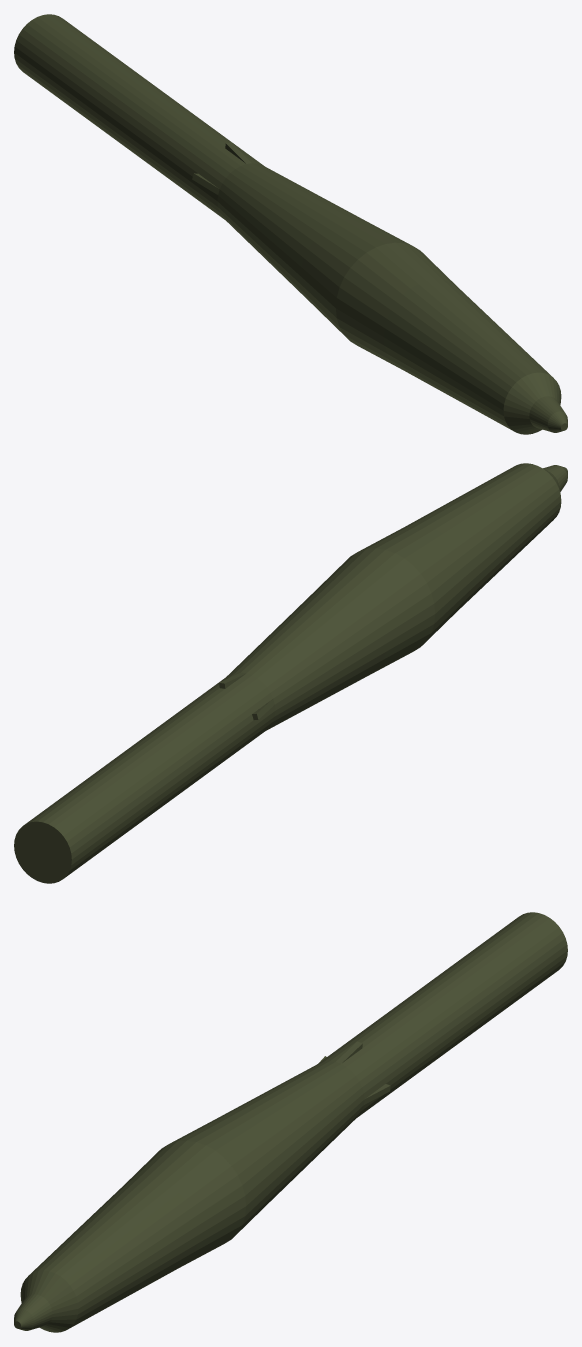
File: rpg_only.fbx
The picture shows the model from 3 angles, top to bottom: view 1: azimuth 30°, elevation 25°; view 2: azimuth 150°, elevation 25°; view 3: azimuth 330°, elevation 25°; orthographic projection.
Parts seen in each view (by area): view 1: rpg; view 2: rpg; view 3: rpg.
Boxes of the visible parts, x1,y1,x2,y2 form: rpg: (14,14,567,434); rpg: (14,463,567,883); rpg: (14,912,567,1332).
Bounding box in the file's own units: 34.34 × 34.34 × 312.
